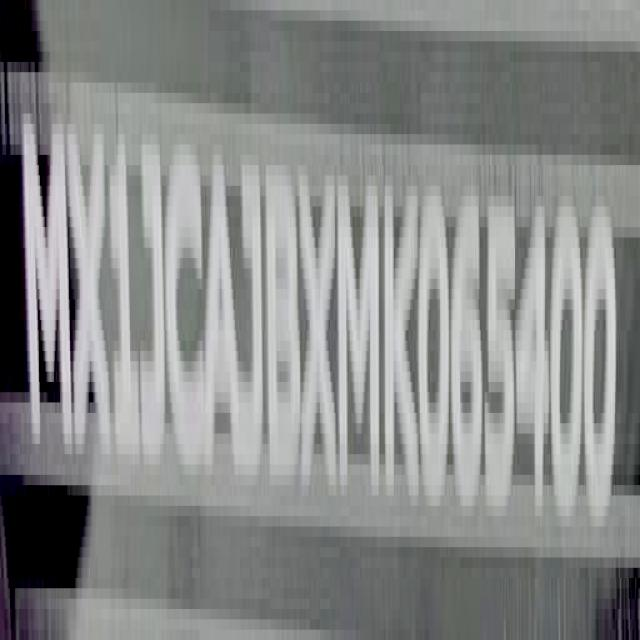0: (418, 173, 452, 518), (547, 192, 582, 525), (585, 203, 621, 521)
1: (110, 102, 138, 470)
4: (518, 188, 553, 527)
5: (486, 180, 517, 520)
6: (450, 178, 484, 524)
A: (205, 149, 240, 486)
B: (266, 142, 300, 493)
C: (168, 132, 209, 488)
J: (236, 153, 264, 489), (140, 134, 165, 478)
K: (384, 168, 421, 501)
M: (24, 97, 73, 461), (341, 160, 385, 509)
X: (69, 110, 113, 466), (299, 160, 340, 502)
